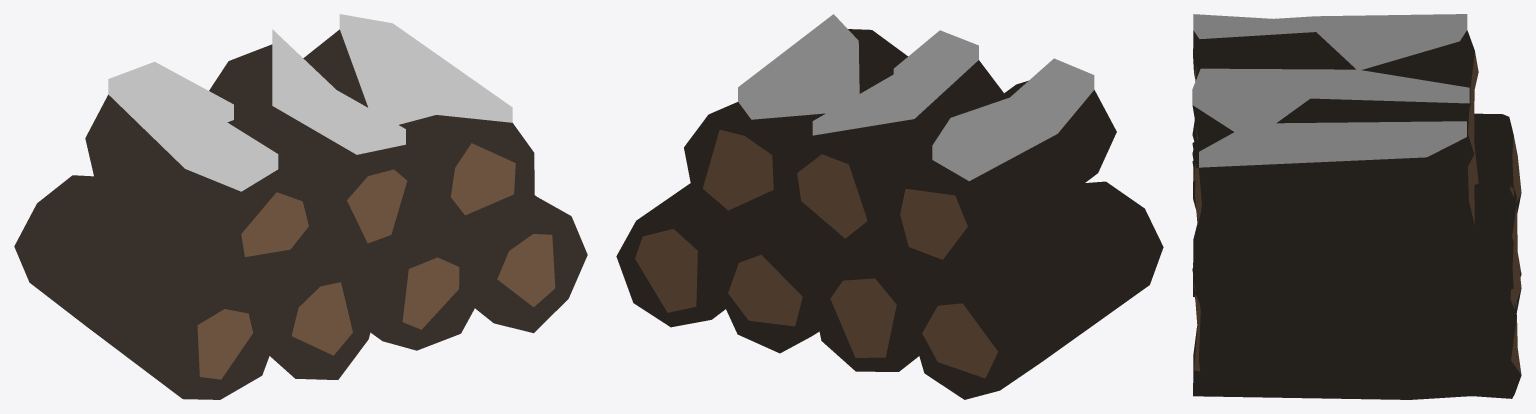
File: firewoods_01.dae
3 renders of one model, left to right at view 1: azimuth 30°, elevation 25°; view 2: azimuth 150°, elevation 25°; view 3: azimuth 270°, elevation 25°, orthographic. The views are drawn at different scales.
Visible parts, largest first — view 1: firewoods_01-0; view 2: firewoods_01-0; view 3: firewoods_01-0.
Part boxes in pixels (left/top/right/bottom): firewoods_01-0: left=14, top=14, right=587, bottom=399; firewoods_01-0: left=616, top=14, right=1163, bottom=399; firewoods_01-0: left=1192, top=14, right=1521, bottom=399.
Bounding box in the file's own units: 2.9 × 1.56 × 1.88.
